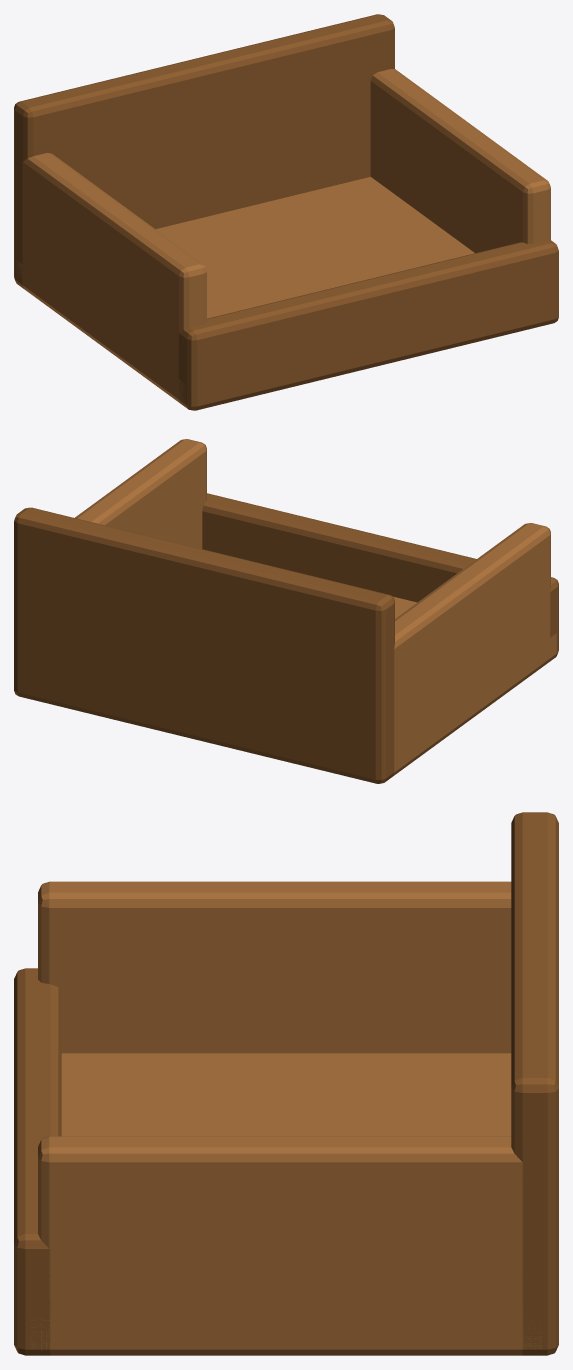
Rendered from merch_bin.glb.
The picture shows the model from 3 angles, top to bottom: view 1: azimuth 30°, elevation 25°; view 2: azimuth 150°, elevation 25°; view 3: azimuth 270°, elevation 25°; orthographic projection. The views are drawn at different scales.
Parts seen in each view (by area): view 1: merch_bin_dark, merch_bin_wood; view 2: merch_bin_dark, merch_bin_wood; view 3: merch_bin_wood, merch_bin_dark.
Boxes of the visible parts, x1=… form: merch_bin_dark: x1=14, y1=14, x2=558, y2=410; merch_bin_wood: x1=16, y1=69, x2=550, y2=407; merch_bin_dark: x1=14, y1=493, x2=558, y2=783; merch_bin_wood: x1=75, y1=439, x2=556, y2=779; merch_bin_wood: x1=30, y1=881, x2=542, y2=1355; merch_bin_dark: x1=14, y1=812, x2=558, y2=1355.
Size of the model in its own units: 0.34 by 0.16 by 0.285.
